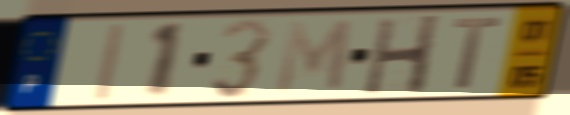1: (143, 19, 188, 102)
3: (208, 16, 279, 102)
H: (360, 12, 445, 97)
I: (88, 20, 132, 104)
M: (272, 17, 356, 97)
T: (450, 15, 505, 92)
